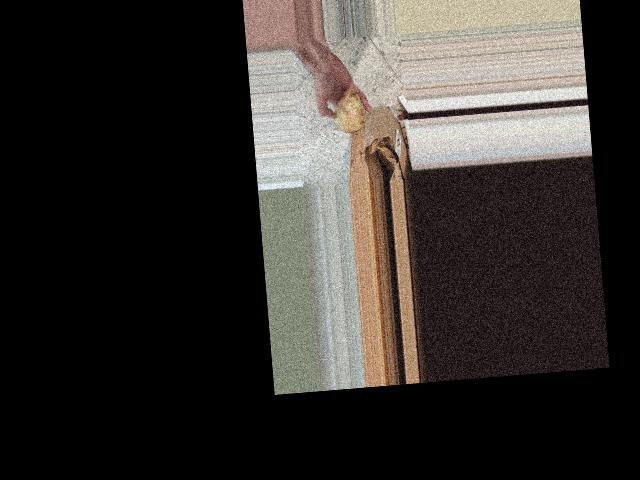onion: (330, 87, 368, 137)
